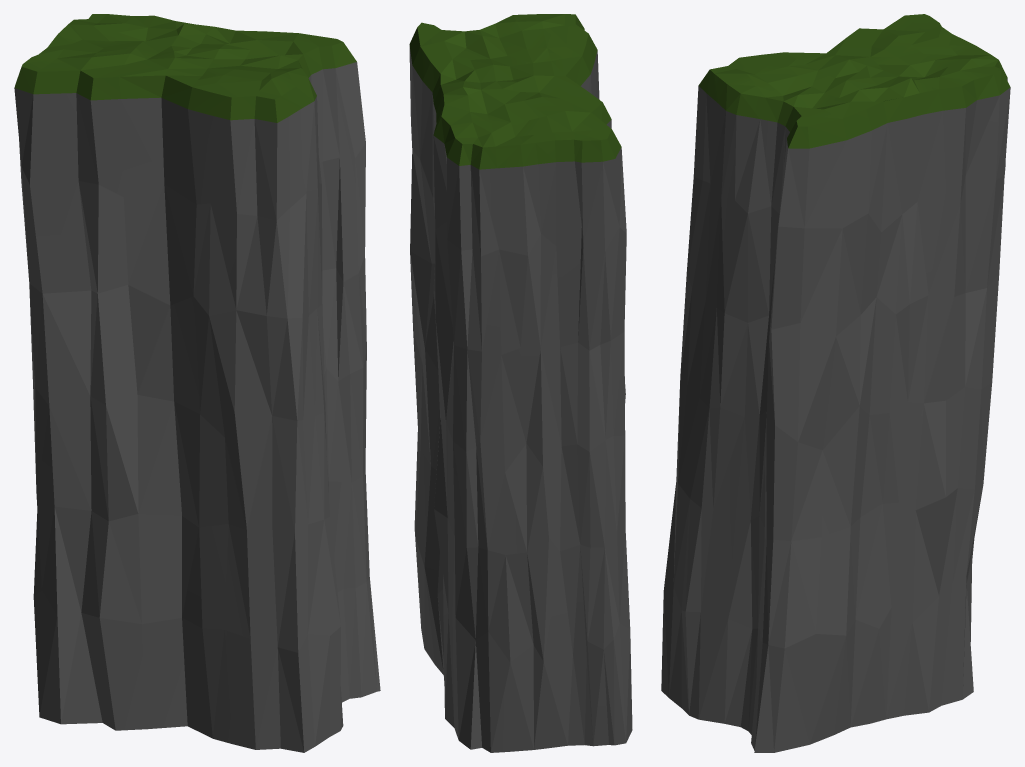
Rendered from 1-2cliffpiece.fbx.
3 views of the same model, side by side, from view 1: azimuth 30°, elevation 25°; view 2: azimuth 150°, elevation 25°; view 3: azimuth 270°, elevation 25° (orthographic). The views are drawn at different scales.
Visible parts, largest first — view 1: CliffC_1.027; view 2: CliffC_1.027; view 3: CliffC_1.027.
Boxes of the visible parts, <box> form: CliffC_1.027: <box>14,14,380,752</box>; CliffC_1.027: <box>409,14,632,752</box>; CliffC_1.027: <box>661,14,1010,752</box>.
Size of the model in its own units: 2900 by 6508 by 3227.
